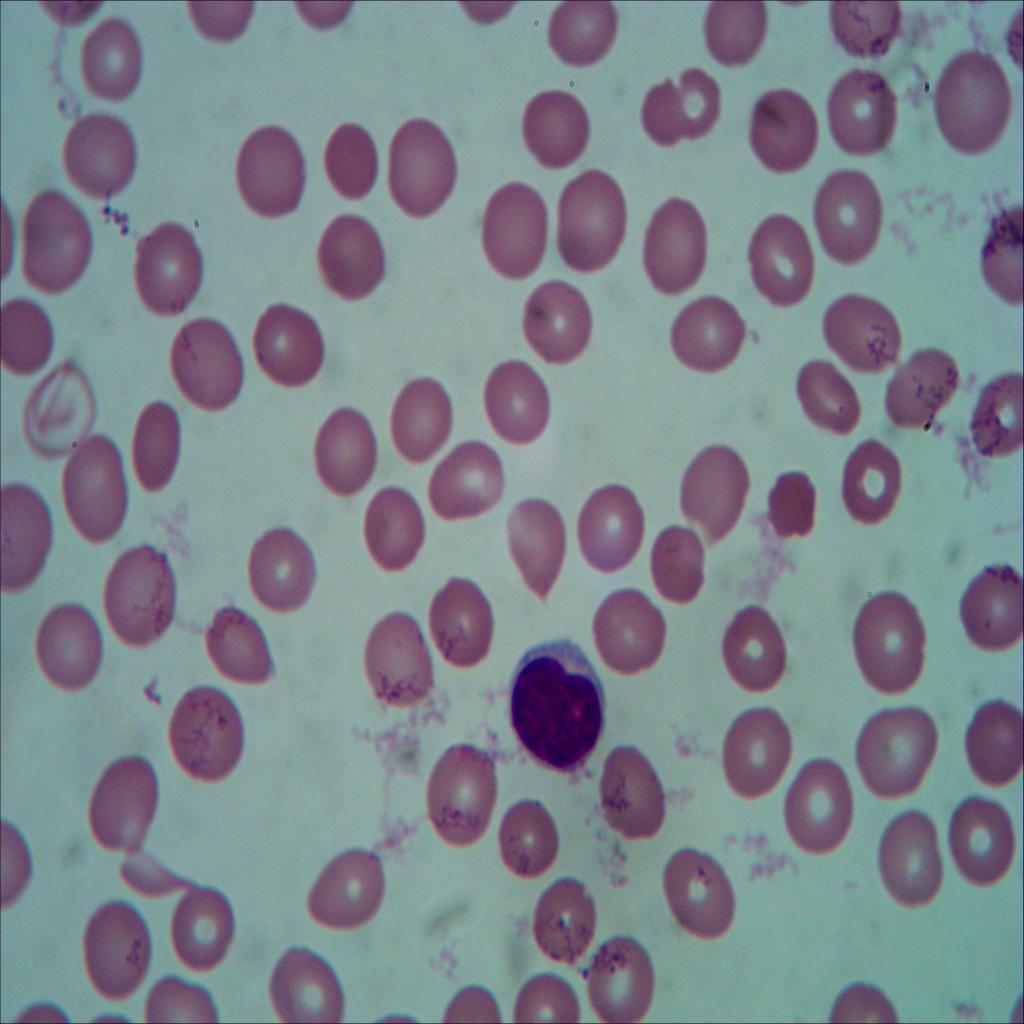Eritrosit: (849, 582, 934, 703), (14, 190, 101, 300), (160, 680, 250, 786), (939, 784, 1024, 894), (168, 310, 248, 426), (126, 214, 210, 322), (661, 282, 746, 388), (54, 110, 144, 210), (424, 740, 497, 860), (97, 545, 179, 650), (925, 48, 1004, 156), (858, 698, 938, 804), (74, 898, 156, 1000), (656, 840, 736, 944), (303, 844, 390, 938), (84, 750, 157, 861), (820, 60, 902, 158), (750, 79, 819, 195), (304, 205, 390, 298), (586, 585, 668, 680), (65, 436, 133, 550), (784, 760, 860, 862), (362, 608, 435, 714), (476, 178, 546, 288), (570, 473, 644, 577), (230, 122, 308, 220), (476, 350, 554, 448), (882, 336, 955, 440), (423, 441, 508, 530), (164, 878, 236, 982), (250, 300, 328, 396), (244, 522, 320, 618), (672, 446, 748, 542), (593, 741, 665, 842), (722, 593, 790, 699), (819, 166, 888, 270), (558, 166, 624, 274), (392, 124, 460, 228), (641, 192, 707, 297), (502, 492, 566, 600), (493, 783, 562, 883), (723, 701, 792, 801), (265, 940, 347, 1024), (746, 212, 816, 310), (954, 562, 1024, 660), (320, 111, 385, 216), (379, 370, 450, 466), (647, 71, 726, 157), (520, 84, 596, 173), (312, 406, 376, 510), (580, 938, 657, 1024), (880, 810, 946, 910), (522, 279, 592, 373), (829, 290, 902, 379), (76, 19, 150, 106), (534, 868, 596, 970), (206, 599, 282, 682), (422, 579, 497, 663), (0, 478, 52, 596), (790, 354, 862, 439), (645, 518, 712, 608), (128, 395, 185, 499), (366, 482, 425, 577), (36, 608, 106, 688), (960, 702, 1024, 786), (702, 0, 772, 75), (970, 371, 1024, 468), (544, 0, 610, 76), (764, 461, 822, 544), (850, 436, 900, 531), (817, 0, 900, 54), (0, 299, 55, 379)
Limfosit: (502, 636, 610, 777)
